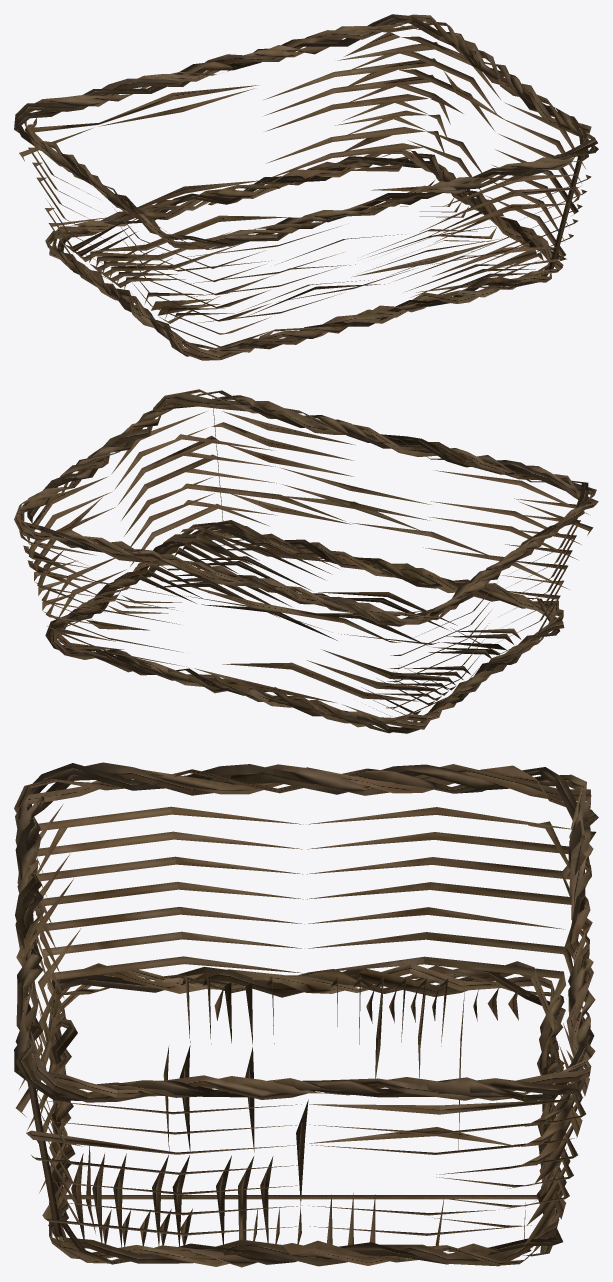
Rendered from wicker_basket_01.glb.
3 renders of one model, top to bottom at view 1: azimuth 30°, elevation 25°; view 2: azimuth 150°, elevation 25°; view 3: azimuth 270°, elevation 25°, orthographic. The views are drawn at different scales.
Parts seen in each view (by area): view 1: wicker_basket_01; view 2: wicker_basket_01; view 3: wicker_basket_01.
Boxes of the visible parts, bbox=[...] form: wicker_basket_01: bbox=[14, 14, 598, 360]; wicker_basket_01: bbox=[14, 389, 598, 733]; wicker_basket_01: bbox=[14, 762, 598, 1267].
Bounding box in the file's own units: 0.383 × 0.1174 × 0.2929.
Materials: 1 (1 with a texture image).
